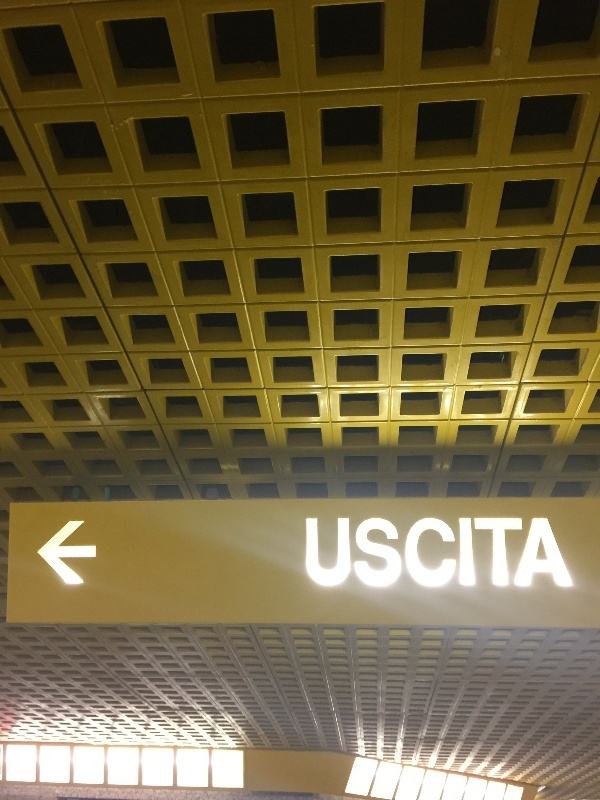text: (305, 511, 320, 596), (321, 511, 336, 596), (337, 511, 352, 596), (353, 511, 368, 596), (369, 511, 384, 596), (385, 511, 400, 596), (401, 511, 416, 596), (417, 511, 432, 596), (433, 511, 448, 596), (449, 511, 464, 596), (465, 511, 480, 596), (481, 511, 496, 596), (497, 511, 512, 596), (513, 511, 528, 596), (529, 511, 544, 596), (545, 511, 560, 596), (561, 511, 576, 596), (577, 511, 579, 596), (303, 511, 304, 596)
